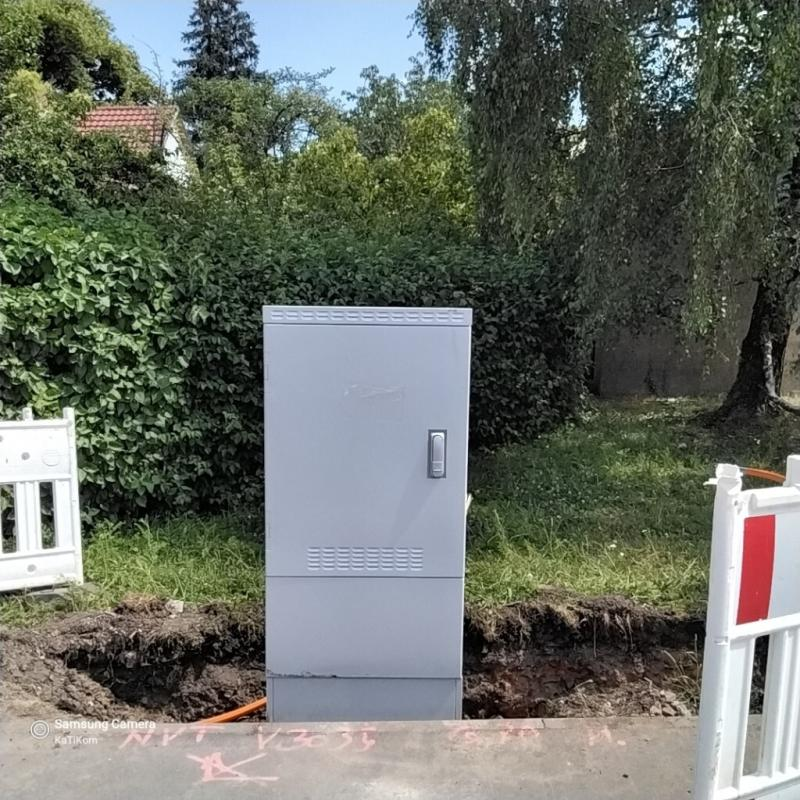NT-Gehause: (261, 306, 482, 716)
